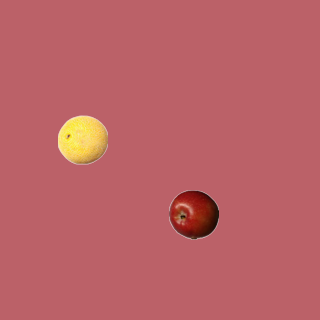Apple Braeburn: (168, 189, 218, 239)
Cantaloupe 1: (57, 114, 107, 164)
